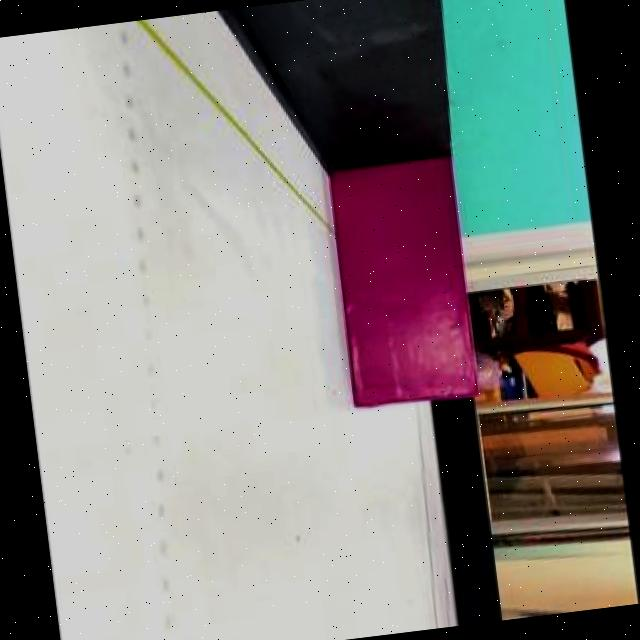xparking: (330, 155, 476, 408)
